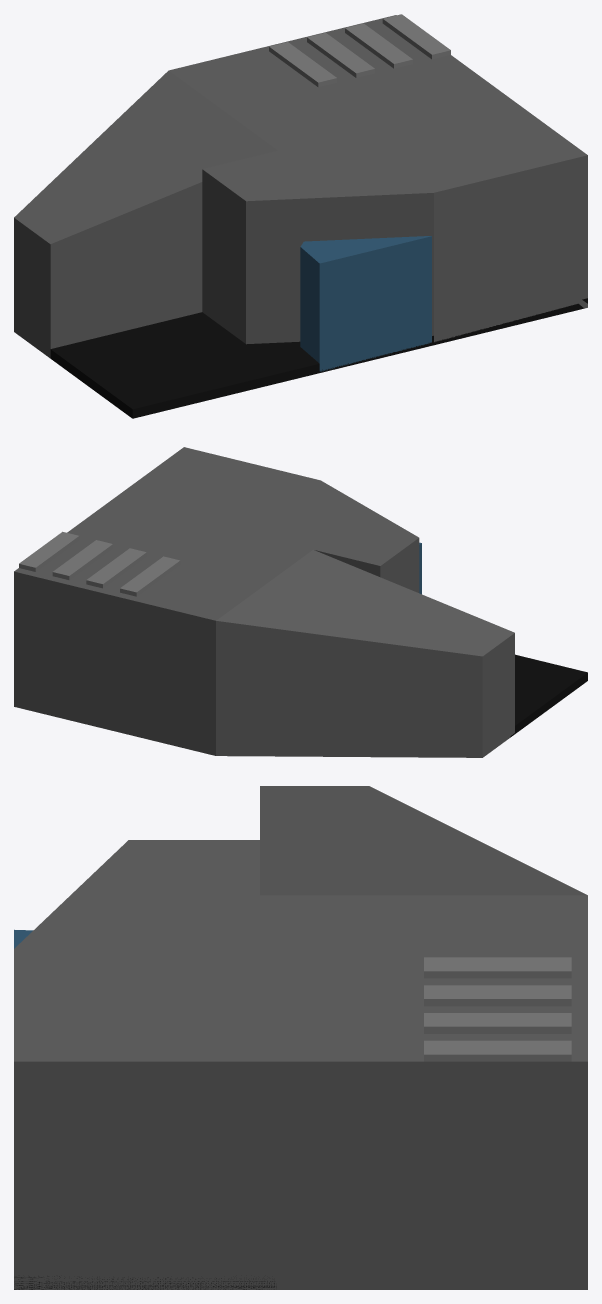
File: newsho-7.glb
The picture shows the model from 3 angles, top to bottom: view 1: azimuth 30°, elevation 25°; view 2: azimuth 150°, elevation 25°; view 3: azimuth 270°, elevation 25°; orthographic projection. The views are drawn at different scales.
Visible parts, largest first — view 1: newsho-7; view 2: newsho-7; view 3: newsho-7.
Boxes of the visible parts, left/top/right/bottom form: newsho-7: left=14, top=14, right=587, bottom=418; newsho-7: left=14, top=447, right=587, bottom=757; newsho-7: left=14, top=786, right=587, bottom=1289.
Size of the model in its own units: 2 by 0.66 by 1.46.
